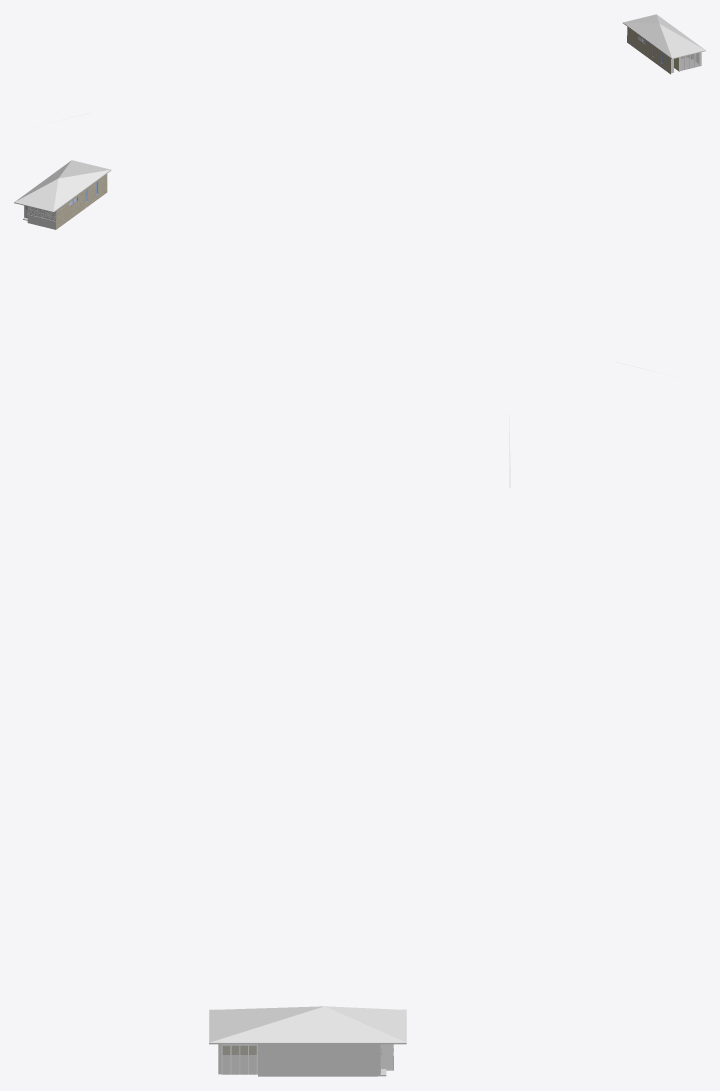
File: indoor2.dae
3 views of the same model, one above another, from view 1: azimuth 30°, elevation 25°; view 2: azimuth 150°, elevation 25°; view 3: azimuth 270°, elevation 25° (orthographic). The views are drawn at different scales.
Parts seen in each view (by area): view 1: 锥体, SketchUp.181; view 2: 锥体, SketchUp.181; view 3: 锥体, SketchUp.247.
Boxes of the visible parts, x1,y1,x2,y2 form: 锥体: [623, 14, 704, 58]; SketchUp.181: [627, 27, 670, 74]; 锥体: [15, 160, 110, 211]; SketchUp.181: [56, 174, 107, 229]; 锥体: [210, 1006, 406, 1042]; SketchUp.247: [218, 1044, 380, 1076].
Bounding box in the file's own units: 189 × 39.96 × 9.39.
